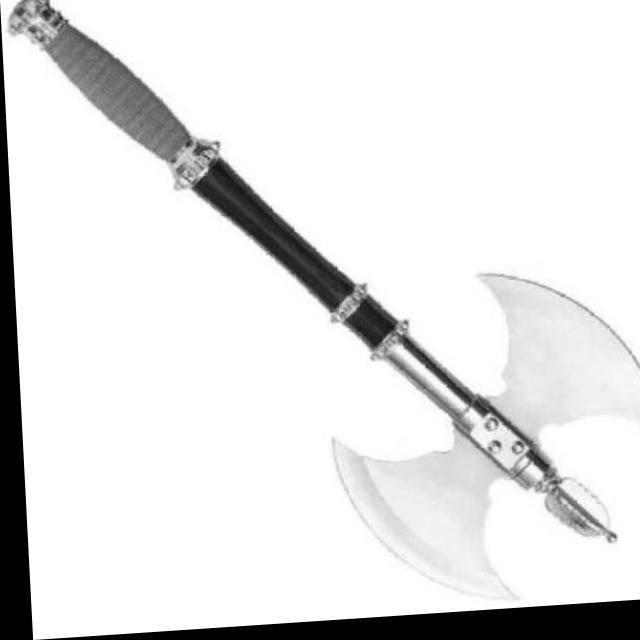weapon: (2, 0, 612, 583)
